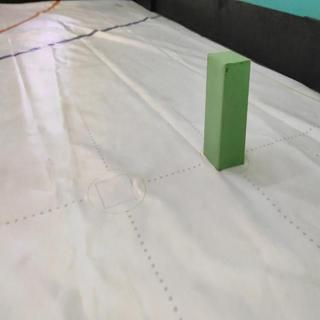greenbox: (203, 49, 250, 169)
